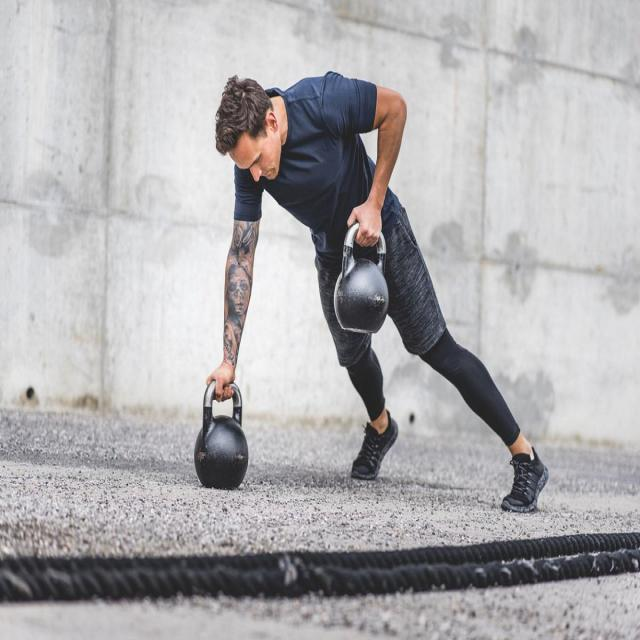Kettlebell: (328, 211, 398, 339), (188, 367, 256, 498)
